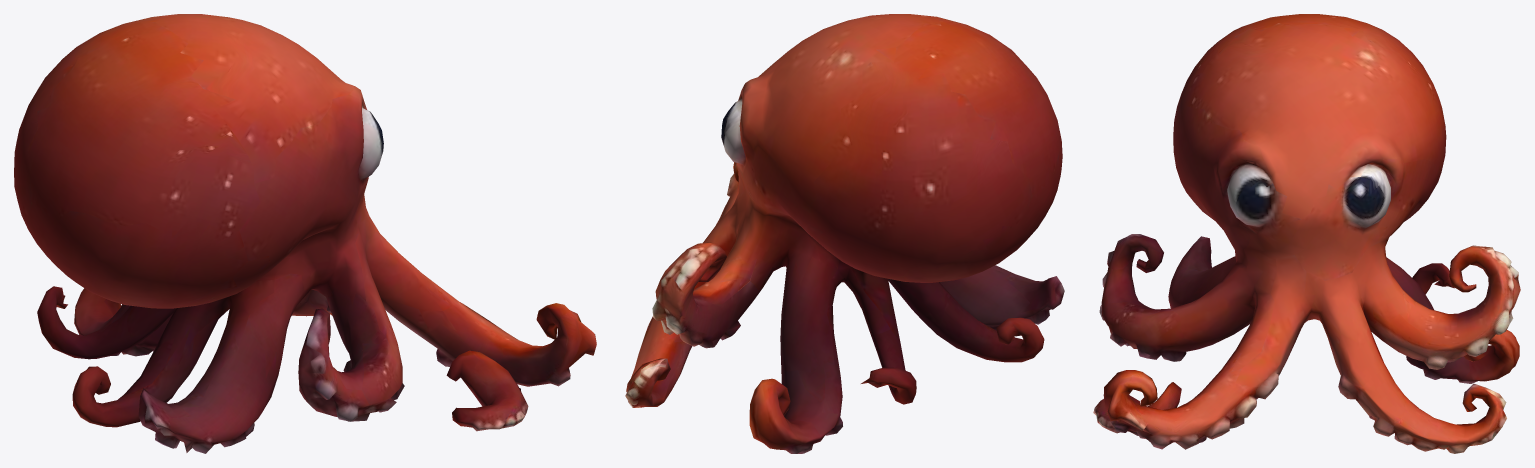
Rendered from octopus.glb.
3 renders of one model, left to right at view 1: azimuth 30°, elevation 25°; view 2: azimuth 150°, elevation 25°; view 3: azimuth 270°, elevation 25°, orthographic. The views are drawn at different scales.
Visible parts, largest first — view 1: tripo_node_e3510543-5d57-478b-888b-c47cd693590f; view 2: tripo_node_e3510543-5d57-478b-888b-c47cd693590f; view 3: tripo_node_e3510543-5d57-478b-888b-c47cd693590f.
Boxes of the visible parts, <box> form: tripo_node_e3510543-5d57-478b-888b-c47cd693590f: <box>14,14,596,453</box>; tripo_node_e3510543-5d57-478b-888b-c47cd693590f: <box>625,14,1064,453</box>; tripo_node_e3510543-5d57-478b-888b-c47cd693590f: <box>1093,14,1520,453</box>.
Size of the model in its own units: 1 by 0.8479 by 0.9699.
1 material, 1 textured.
